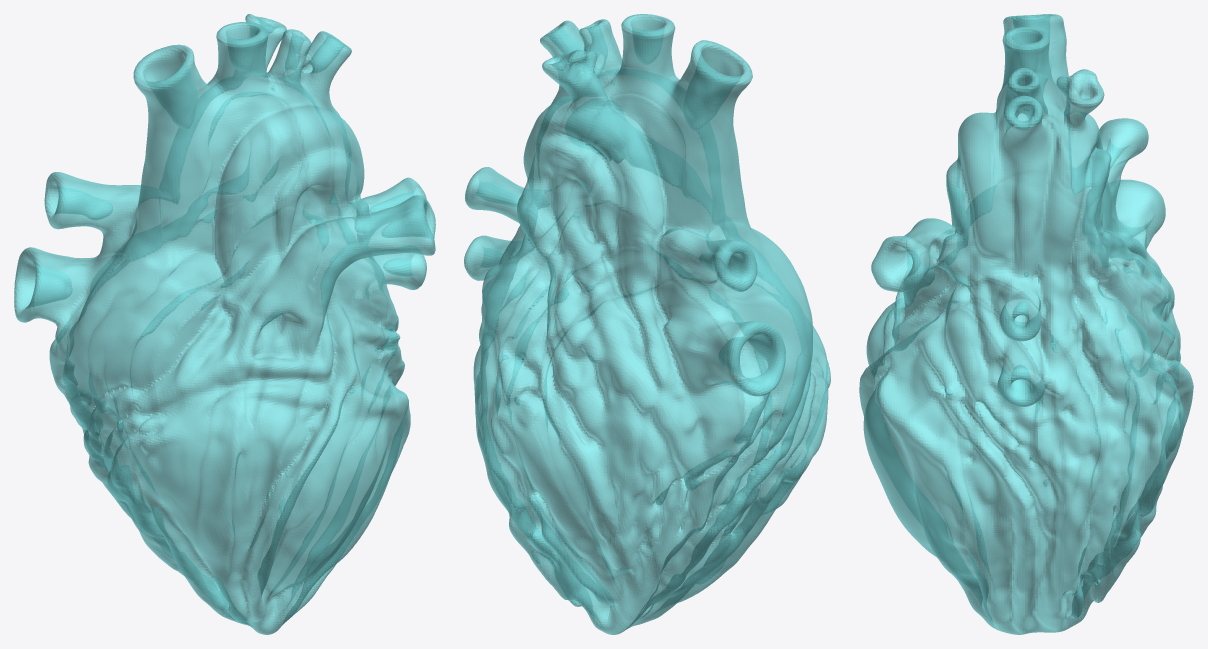
Rendered from Kalam_Glass_Heart.glb.
3 views of the same model, side by side, from view 1: azimuth 30°, elevation 25°; view 2: azimuth 150°, elevation 25°; view 3: azimuth 270°, elevation 25° (orthographic). The views are drawn at different scales.
Visible parts, largest first — view 1: world; view 2: world; view 3: world.
Part boxes in pixels (x1,y1,x2,y2): world: [14, 14, 435, 634]; world: [464, 14, 830, 634]; world: [859, 14, 1193, 634].
Bounding box in the file's own units: 1.2 × 1.96 × 1.01.
